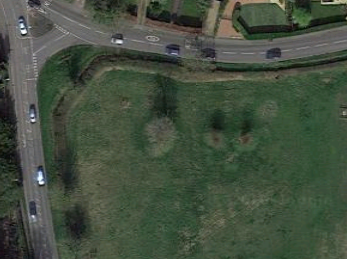tree: (140, 112, 190, 166), (228, 125, 267, 158), (200, 123, 231, 154)
